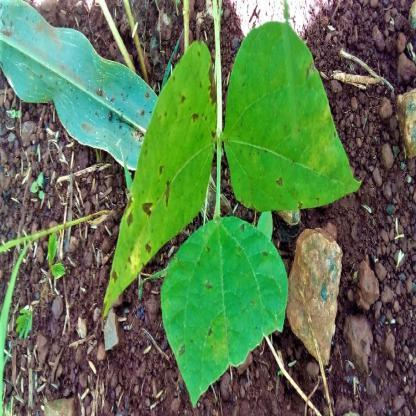Beans_Angular_LeafSpot: (92, 37, 216, 328), (225, 27, 360, 204), (157, 220, 278, 396)
